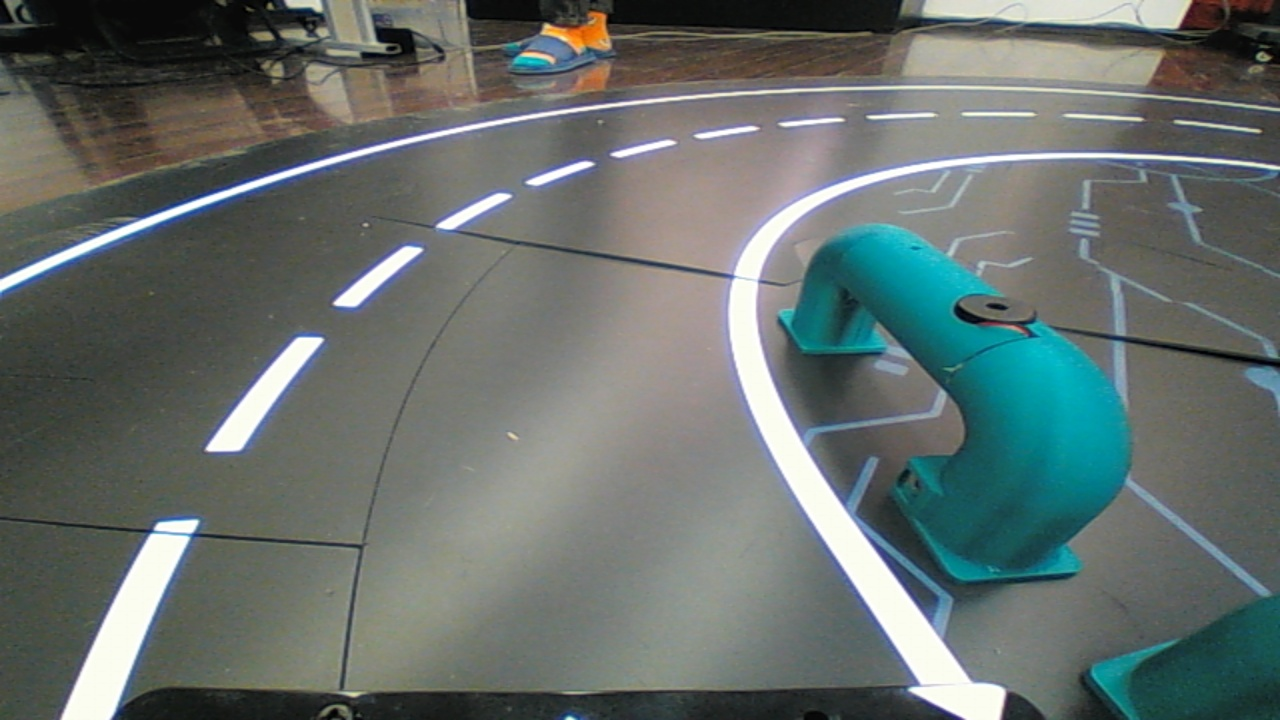Pedestrian crossing: (765, 179, 1164, 604)
